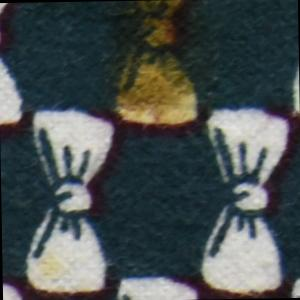Oil Stain: (103, 1, 209, 142)
Stain: (36, 249, 97, 299)
